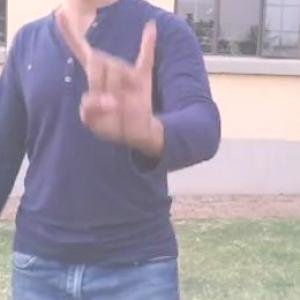takeoff-hand: (49, 0, 166, 158)
